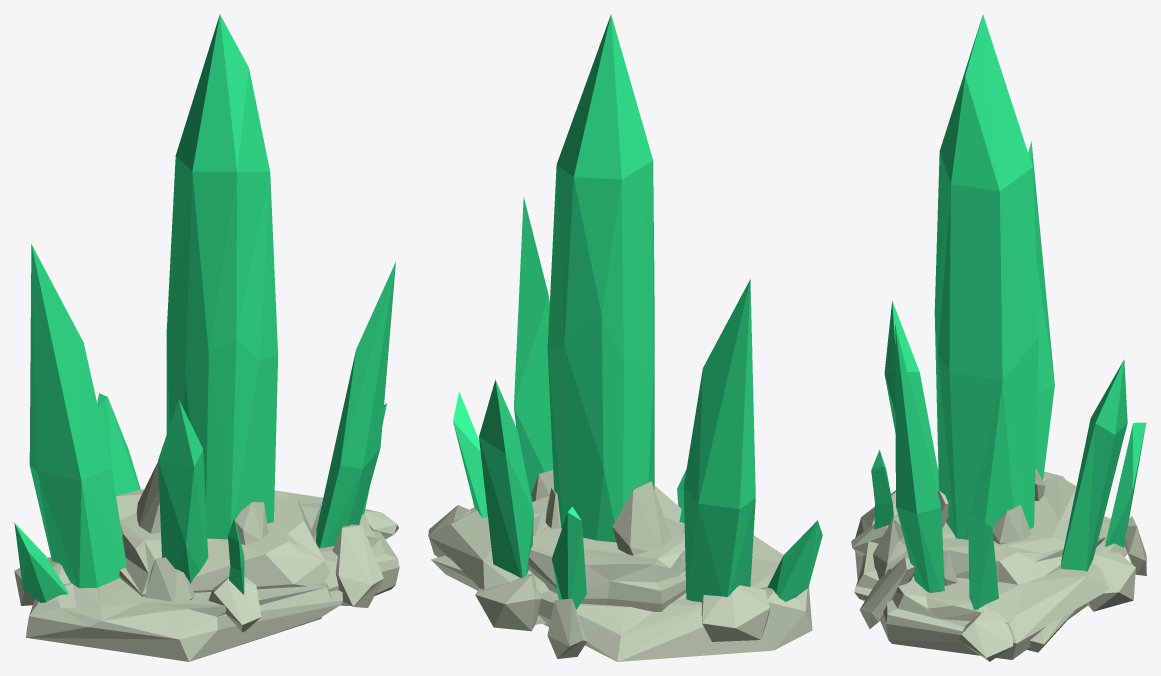
The model's file is Model_Forest_2x1A.fbx.
3 renders of one model, left to right at view 1: azimuth 30°, elevation 25°; view 2: azimuth 150°, elevation 25°; view 3: azimuth 270°, elevation 25°, orthographic.
Visible parts, largest first — view 1: Model_Frost_2x1A; view 2: Model_Frost_2x1A; view 3: Model_Frost_2x1A.
Boxes of the visible parts, x1,y1,x2,y2 form: Model_Frost_2x1A: (14, 14, 399, 661); Model_Frost_2x1A: (428, 14, 822, 661); Model_Frost_2x1A: (851, 14, 1146, 661).
Size of the model in its own units: 292 by 425 by 194.
Materials: 1 (1 with a texture image).
